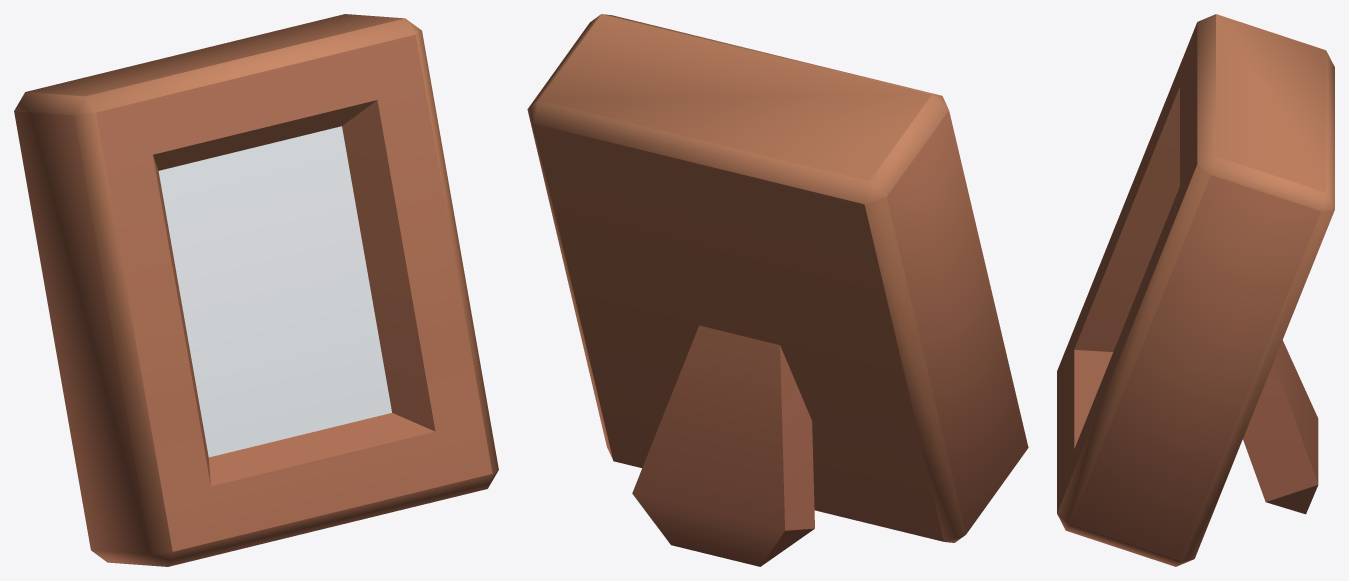
The model's file is photo.glb.
3 renders of one model, left to right at view 1: azimuth 30°, elevation 25°; view 2: azimuth 150°, elevation 25°; view 3: azimuth 270°, elevation 25°, orthographic. The views are drawn at different scales.
Visible parts, largest first — view 1: pictureframe_standing_A; view 2: pictureframe_standing_A; view 3: pictureframe_standing_A.
Boxes of the visible parts, left/top/right/bottom form: pictureframe_standing_A: left=14, top=14, right=498, bottom=566; pictureframe_standing_A: left=527, top=14, right=1028, bottom=566; pictureframe_standing_A: left=1057, top=14, right=1334, bottom=566.
Size of the model in its own units: 0.5 by 0.6185 by 0.3795.
1 material, 1 textured.
